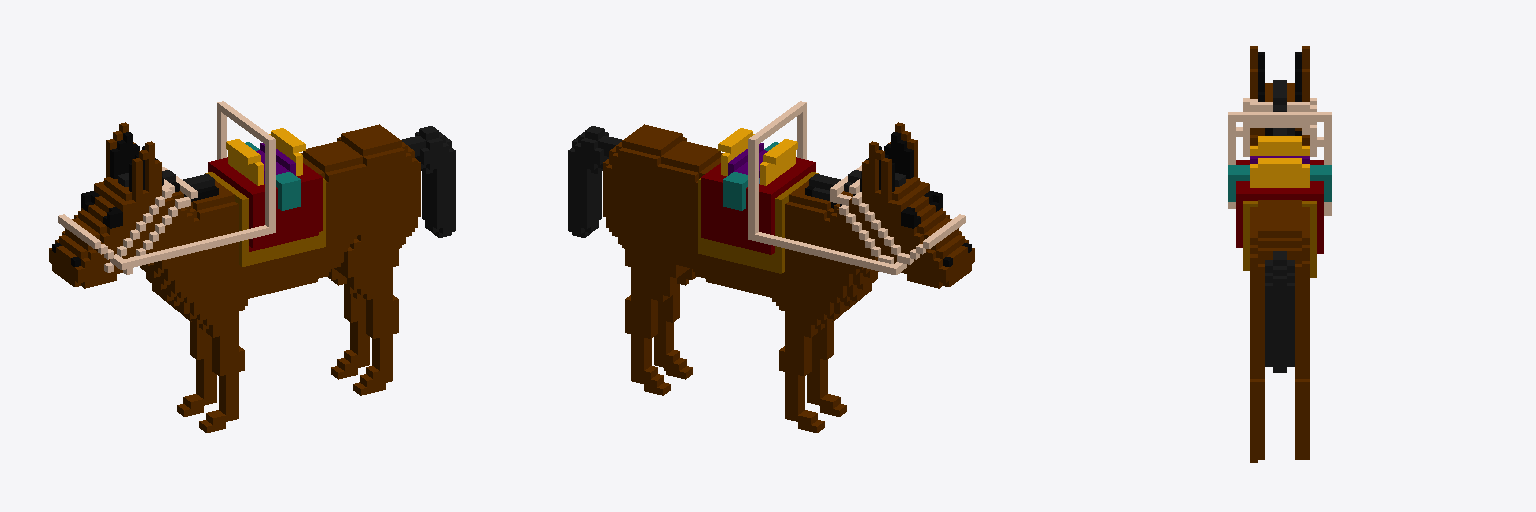
3 views of the same model, side by side, from view 1: azimuth 30°, elevation 25°; view 2: azimuth 150°, elevation 25°; view 3: azimuth 270°, elevation 25° (orthographic).
Bounding box in the file's own units: 60 × 45 × 14.
Materials: 1 (1 with a texture image).